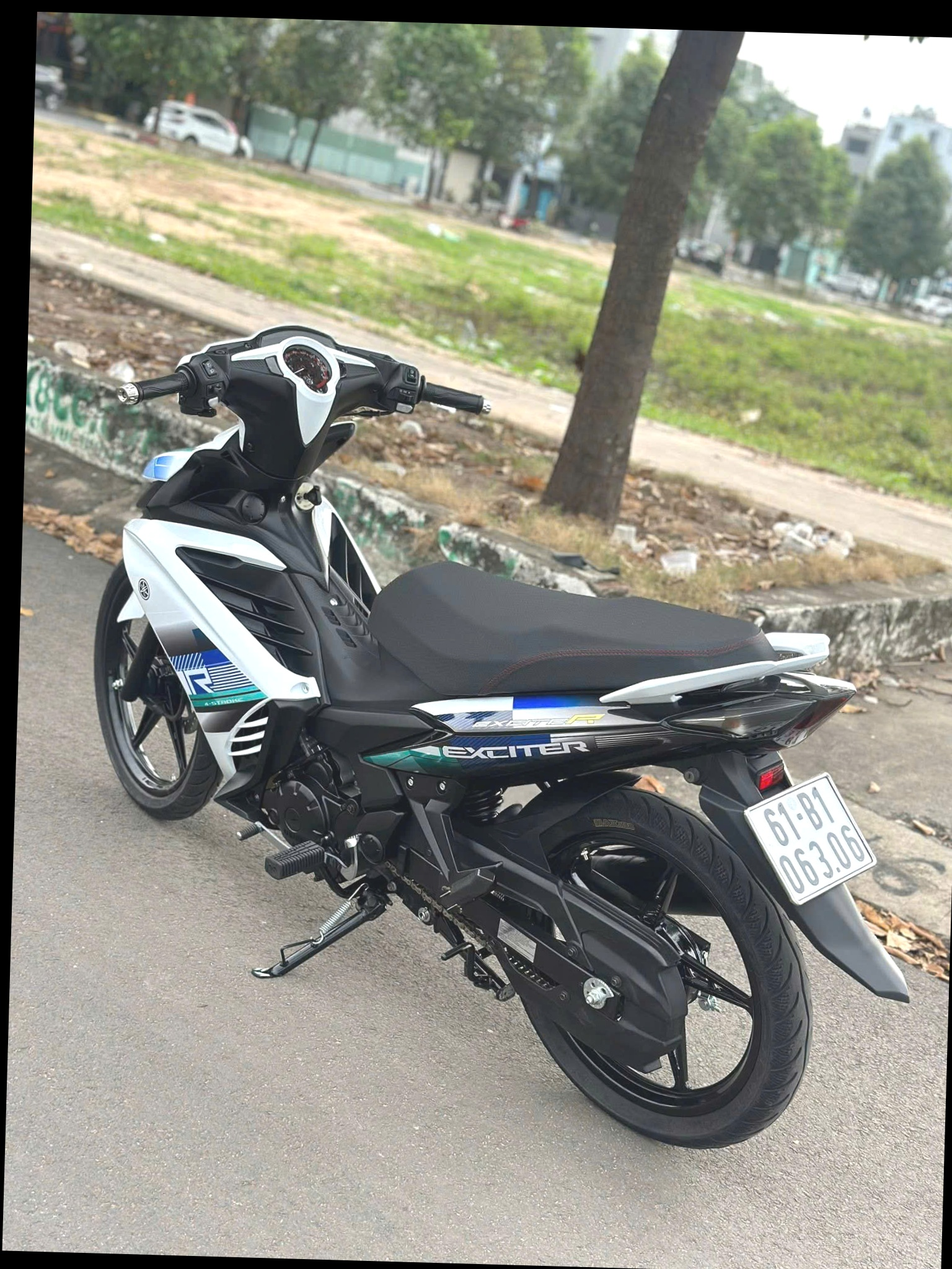Bien-so: (746, 766, 883, 909)
